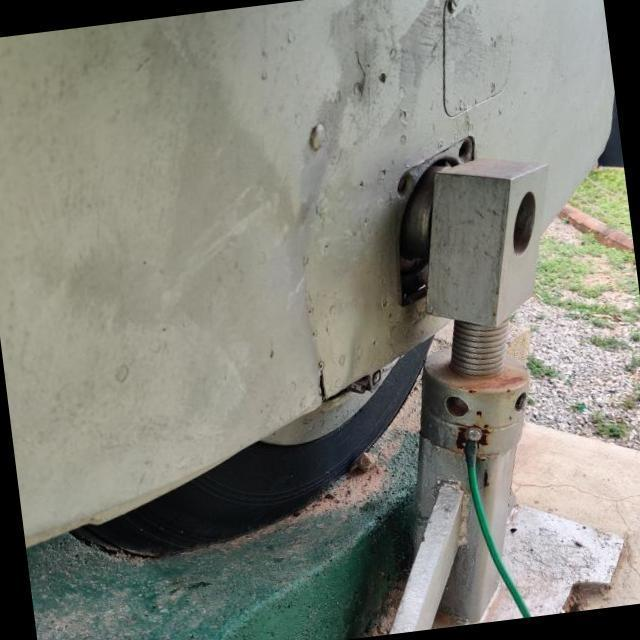Rupture: (304, 358, 348, 414)
